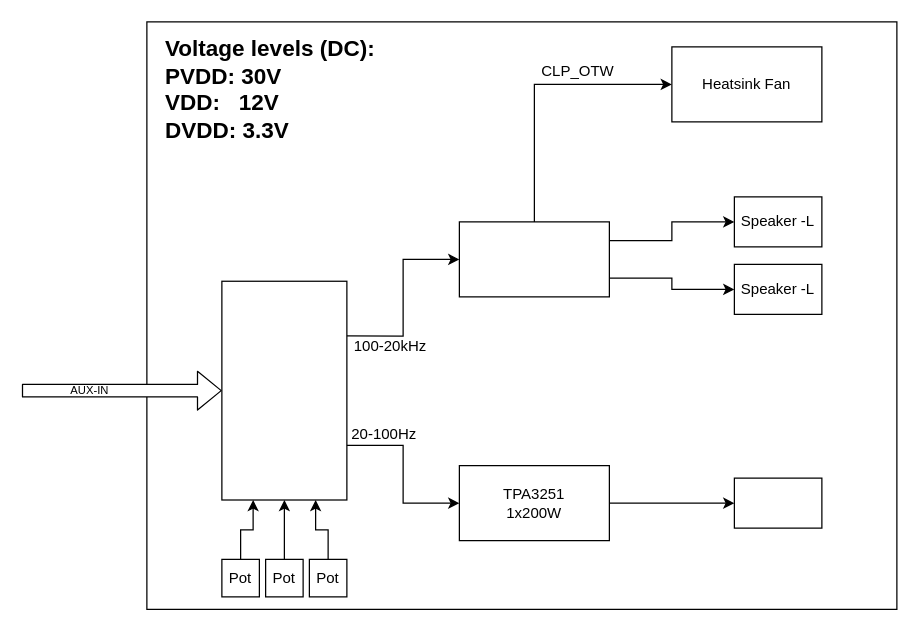
The diagram is 919 pixels wide and 631 high, and some of its shapes have lost their labels. Here are the shapes that lost their labels. From the top down, the box of each, then its label:
(458, 221, 609, 297): TPA3244 2x60W
(221, 280, 347, 500): Delningsfilter
(733, 477, 822, 528): Mono
